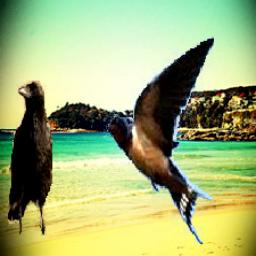Crow: (9, 81, 53, 236)
Swallow: (105, 35, 215, 244)
